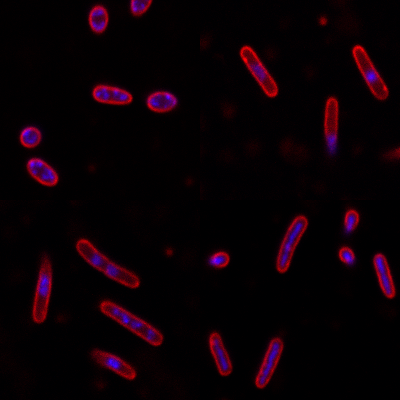MP265: (24, 158, 59, 187), (90, 83, 133, 105), (87, 4, 109, 35), (146, 91, 177, 113), (17, 125, 42, 150)
Nalidixate: (73, 239, 141, 289), (98, 300, 164, 347), (349, 43, 390, 101), (238, 43, 279, 99)
Oblique: (88, 346, 138, 382), (31, 256, 54, 323), (322, 95, 339, 159), (204, 249, 230, 270), (342, 207, 361, 234), (336, 244, 356, 267)
Rifampicin: (274, 214, 309, 275), (253, 334, 285, 389), (370, 251, 398, 300), (207, 331, 234, 378)
Vesicle: (163, 245, 175, 258), (317, 15, 328, 26)
